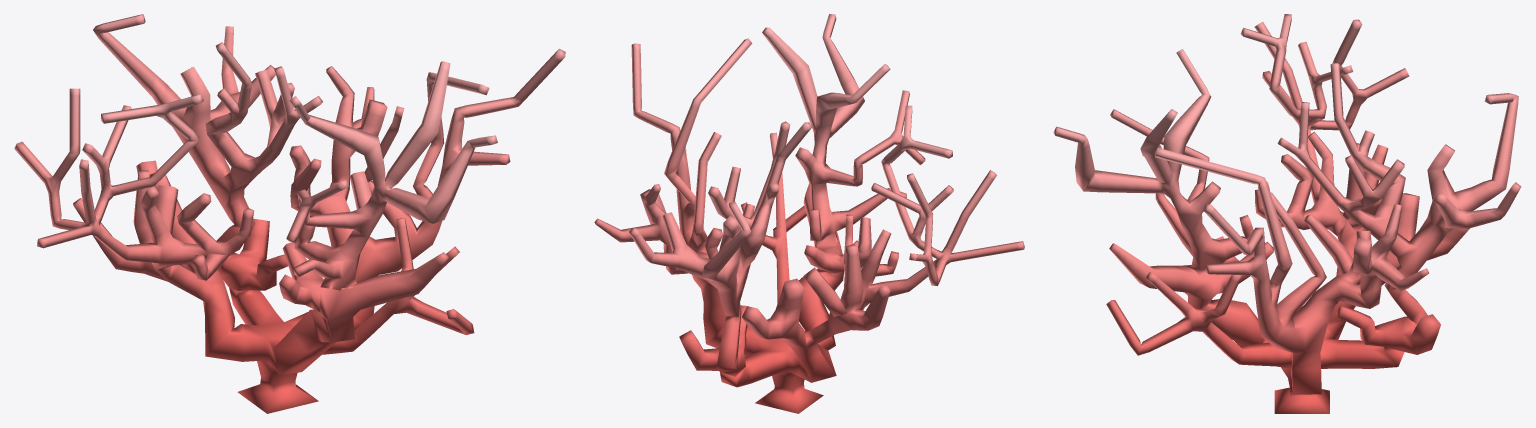
The model's file is basic_coral.glb.
3 views of the same model, side by side, from view 1: azimuth 30°, elevation 25°; view 2: azimuth 150°, elevation 25°; view 3: azimuth 270°, elevation 25° (orthographic). The views are drawn at different scales.
Visible parts, largest first — view 1: coral; view 2: coral; view 3: coral.
Part boxes in pixels (box(x1,y1,x2,y2)): coral: box(14, 14, 565, 413); coral: box(594, 14, 1024, 413); coral: box(1053, 14, 1521, 413).
Bounding box in the file's own units: 2.31 × 1.62 × 2.05.
Materials: 1 (1 with a texture image).
